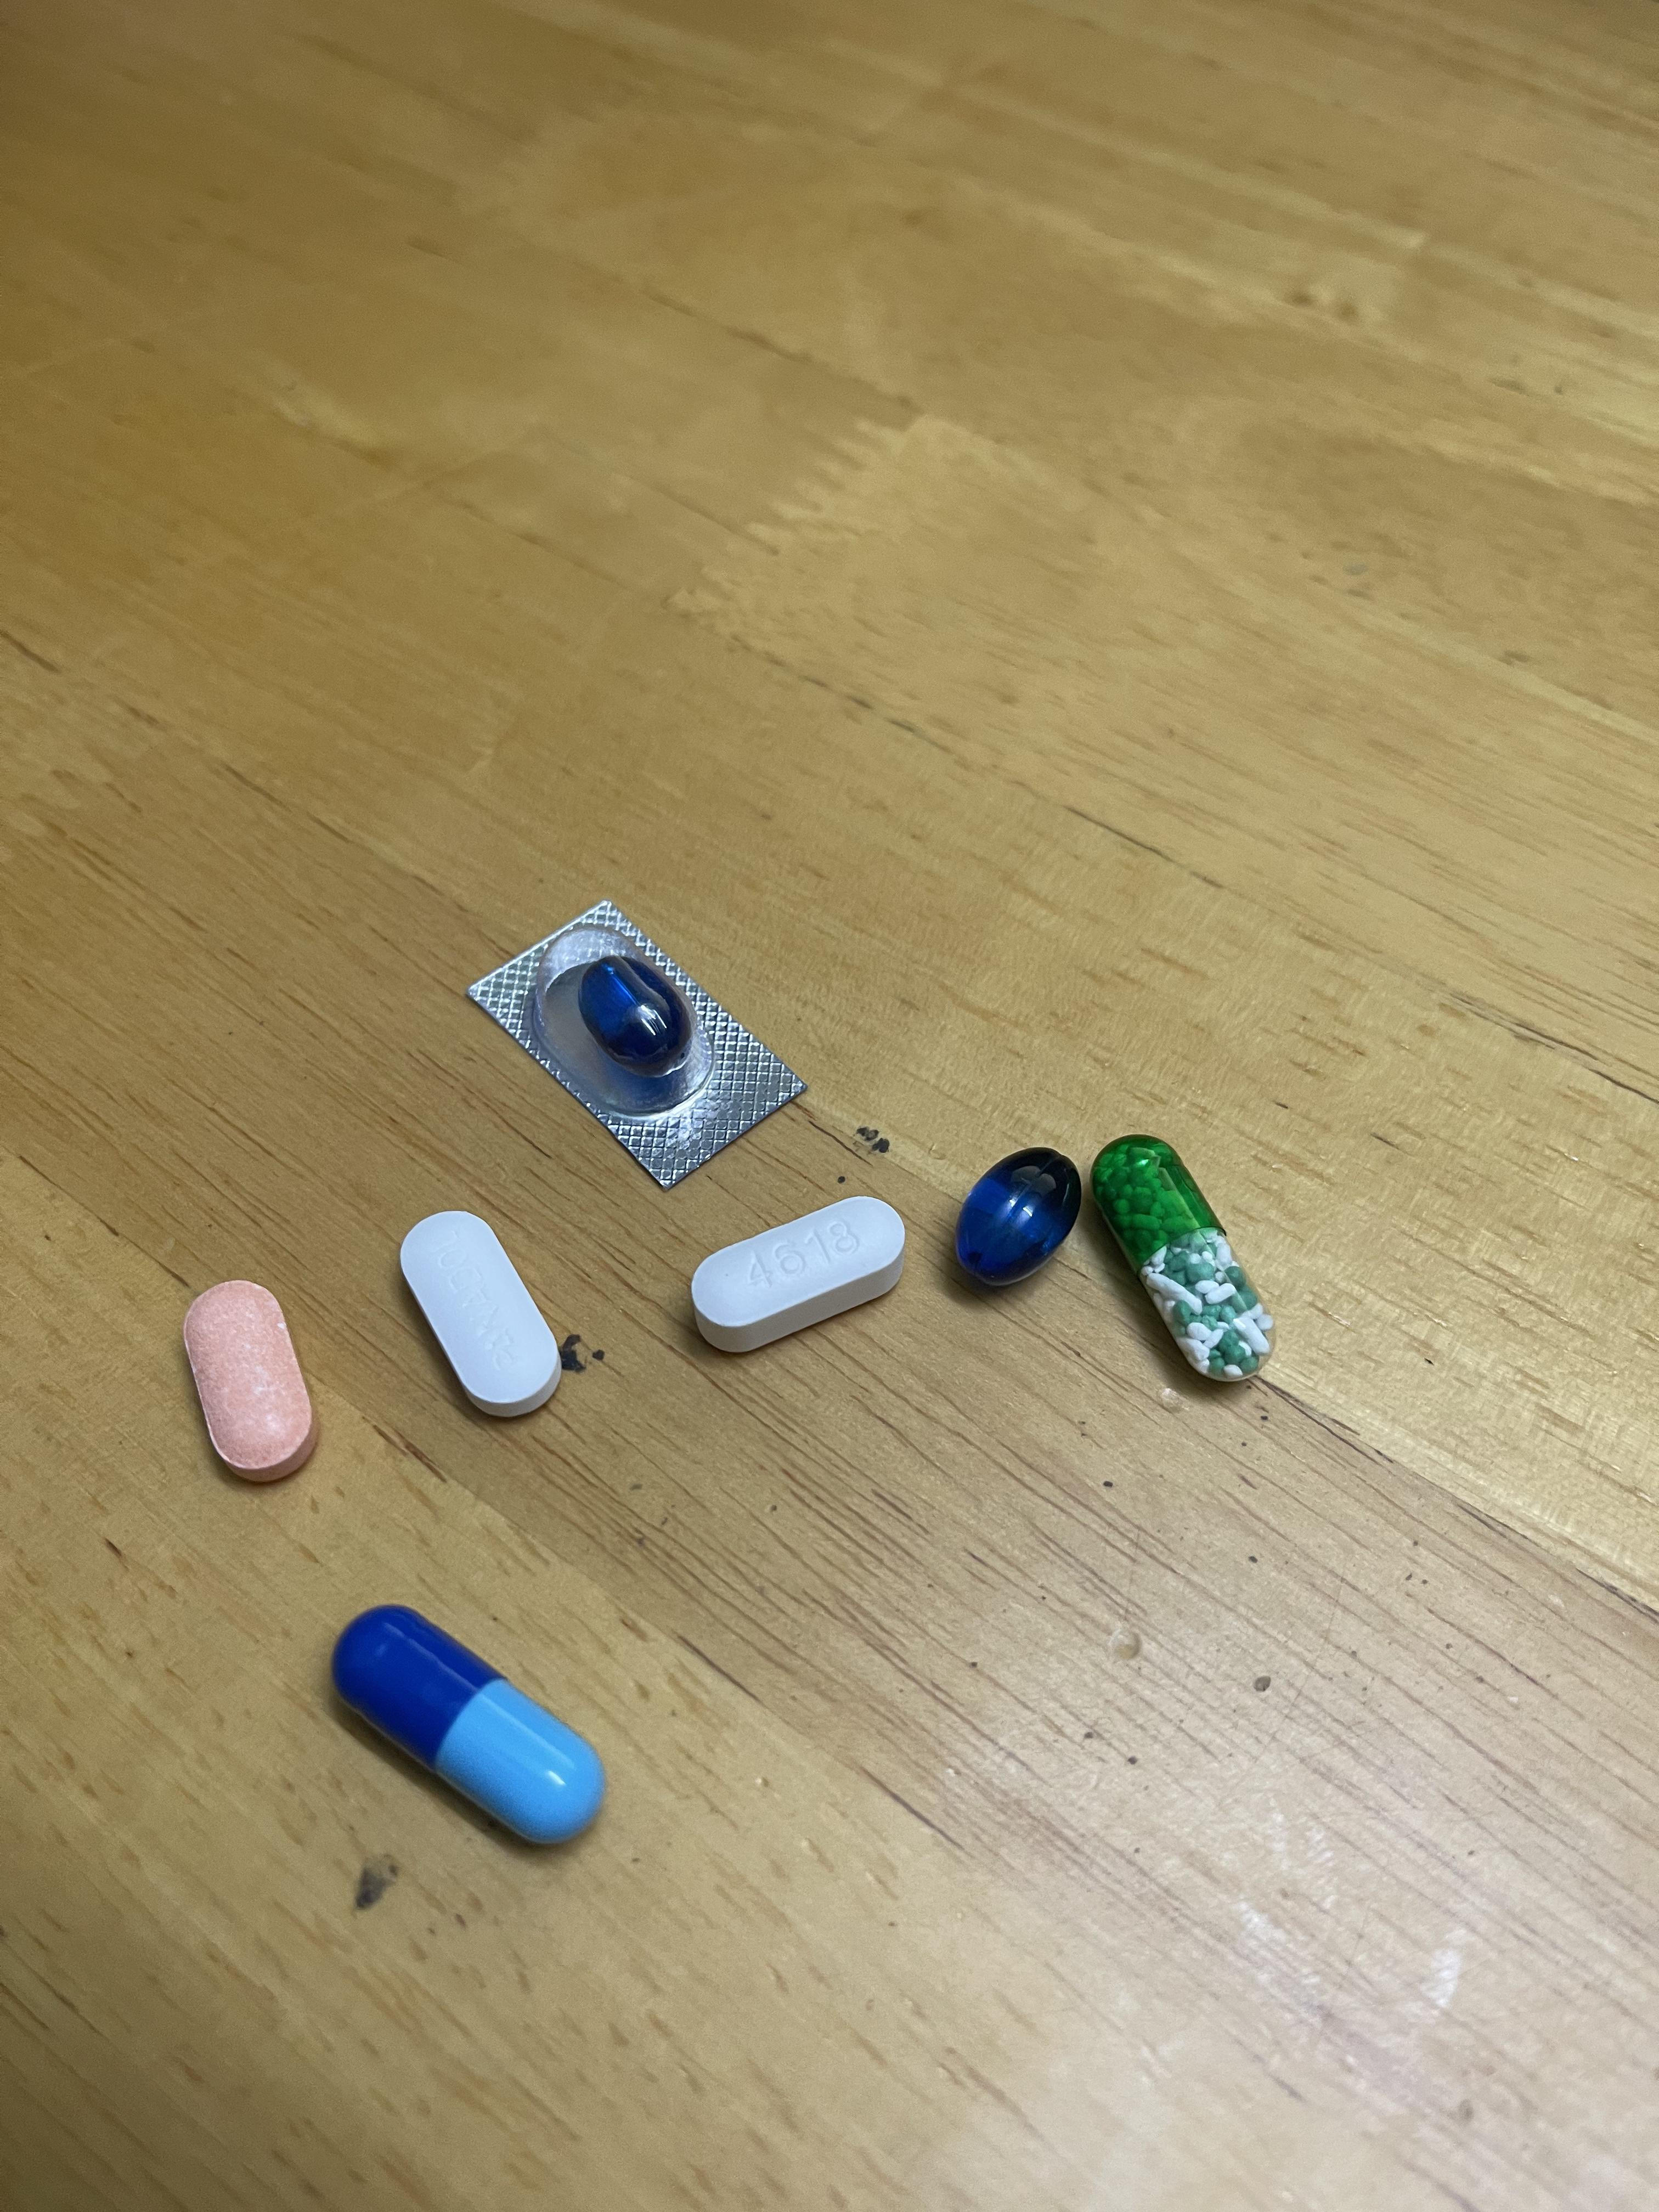Lincomyxin_500mg: (953, 1144, 1080, 1280), (577, 958, 688, 1073)
Loratadine_10mg: (183, 1280, 315, 1479)
Paracetamol_350mg: (401, 1211, 559, 1411)
Paracetamol_500mg: (694, 1193, 901, 1334)
Paracetamol_650mg: (1093, 1141, 1269, 1374)
pill: (335, 1616, 599, 1843)
